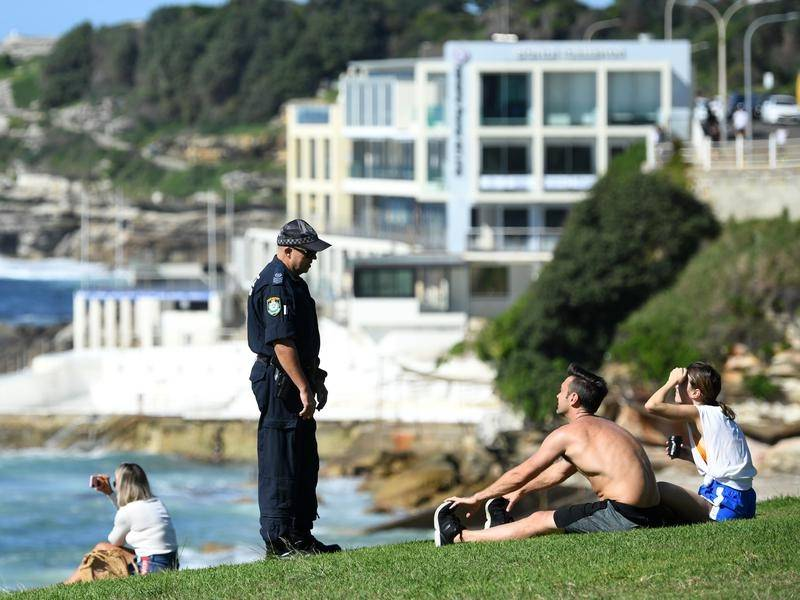Person: (434, 363, 654, 546), (248, 219, 340, 556), (646, 361, 755, 520), (81, 461, 179, 576)
